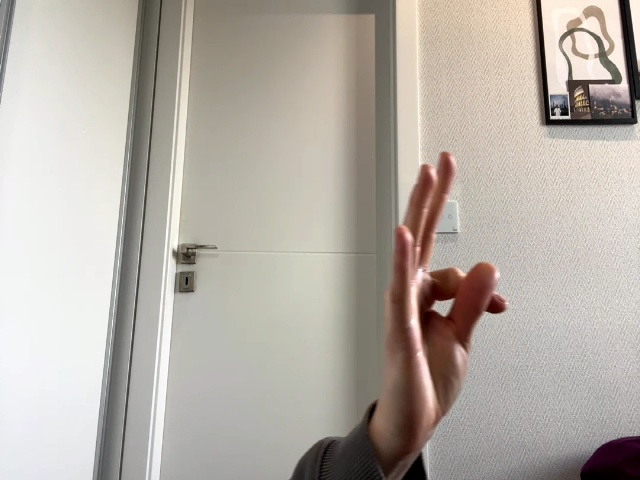T: (387, 152, 507, 426)
